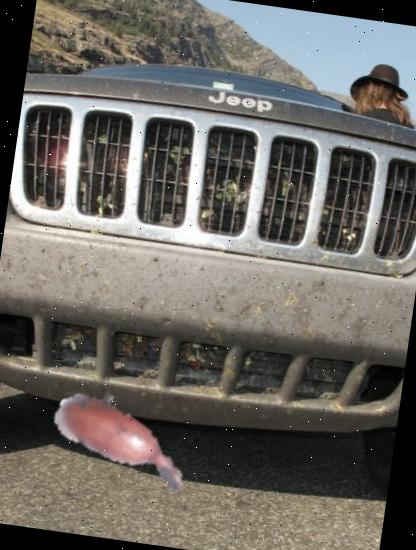Banana: (39, 360, 206, 528)
